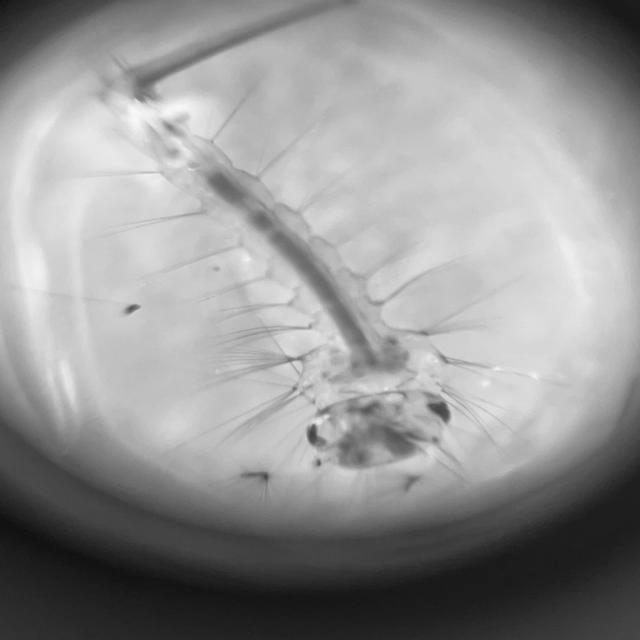larvas: (125, 77, 448, 468)
